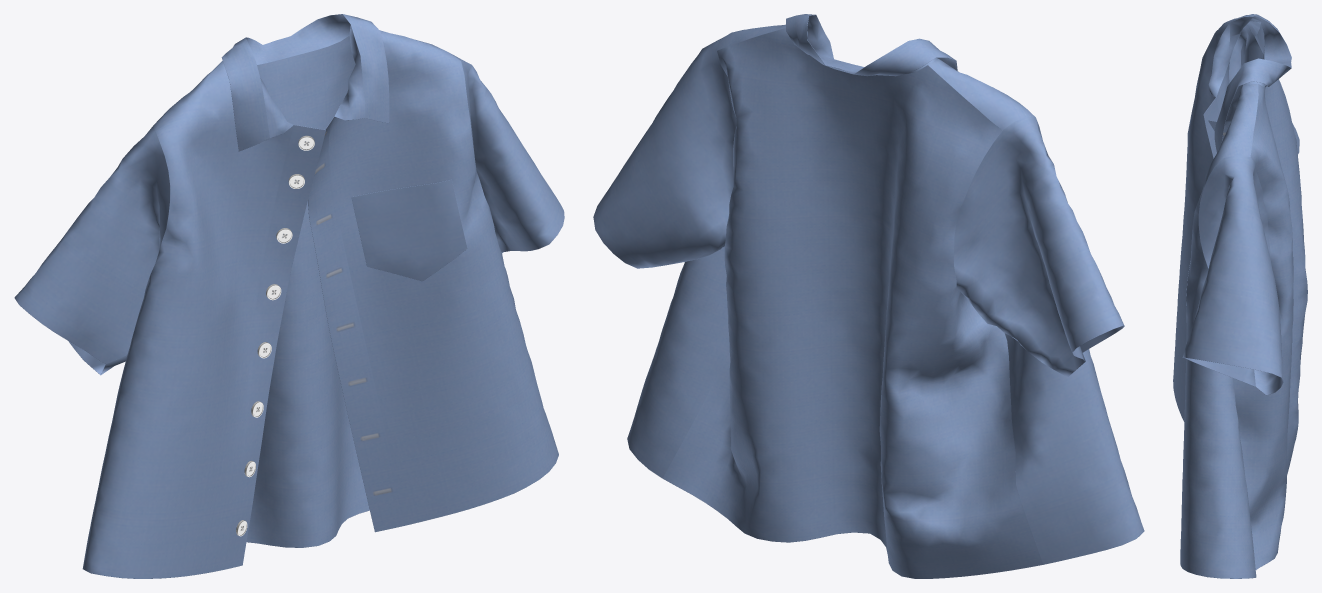
The model's file is FLG_12_04_4.fbx.
3 views of the same model, side by side, from view 1: azimuth 30°, elevation 25°; view 2: azimuth 150°, elevation 25°; view 3: azimuth 270°, elevation 25° (orthographic). The views are drawn at different scales.
Visible parts, largest first — view 1: FLG_12_04_4; view 2: FLG_12_04_4; view 3: FLG_12_04_4.
Part boxes in pixels (box(x1,y1,x2,y2)): FLG_12_04_4: box(14, 14, 564, 578); FLG_12_04_4: box(593, 14, 1144, 578); FLG_12_04_4: box(1173, 14, 1307, 578).
Bounding box in the file's own units: 73.11 × 68.74 × 17.64.
